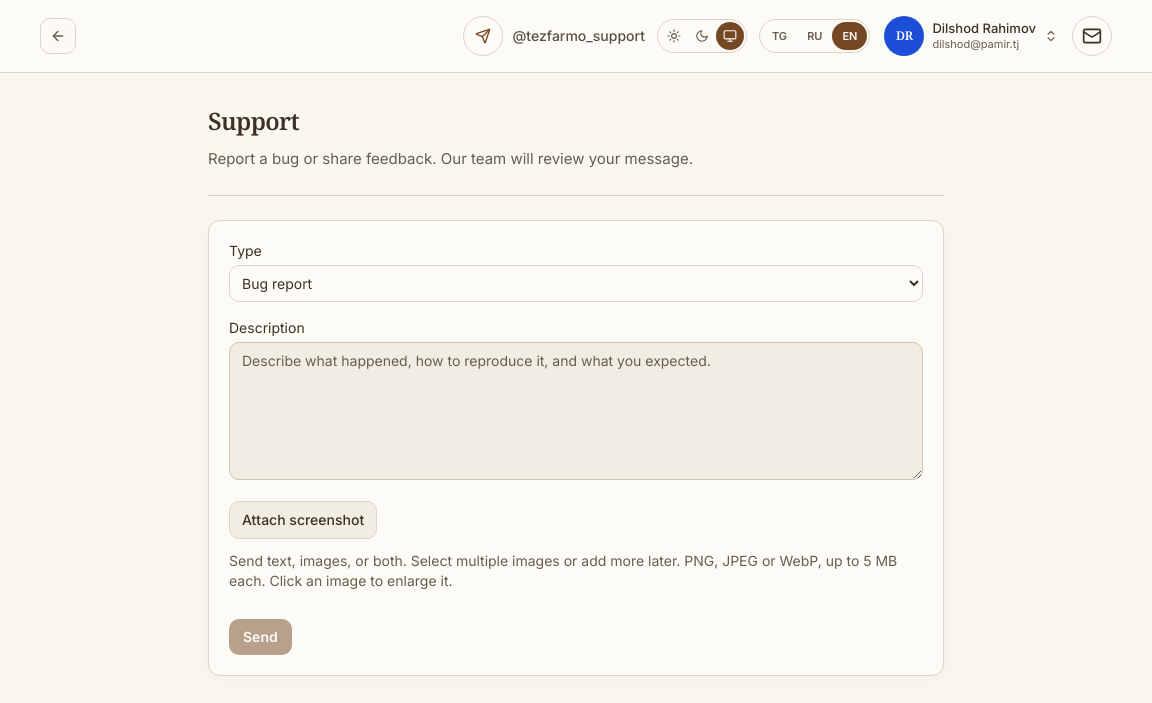
Test: support › sends a bug report and confirms receipt
The image size is (1152, 703).
In the text box labelled "Description": (576, 411) [229, 342, 923, 480], type "Help"
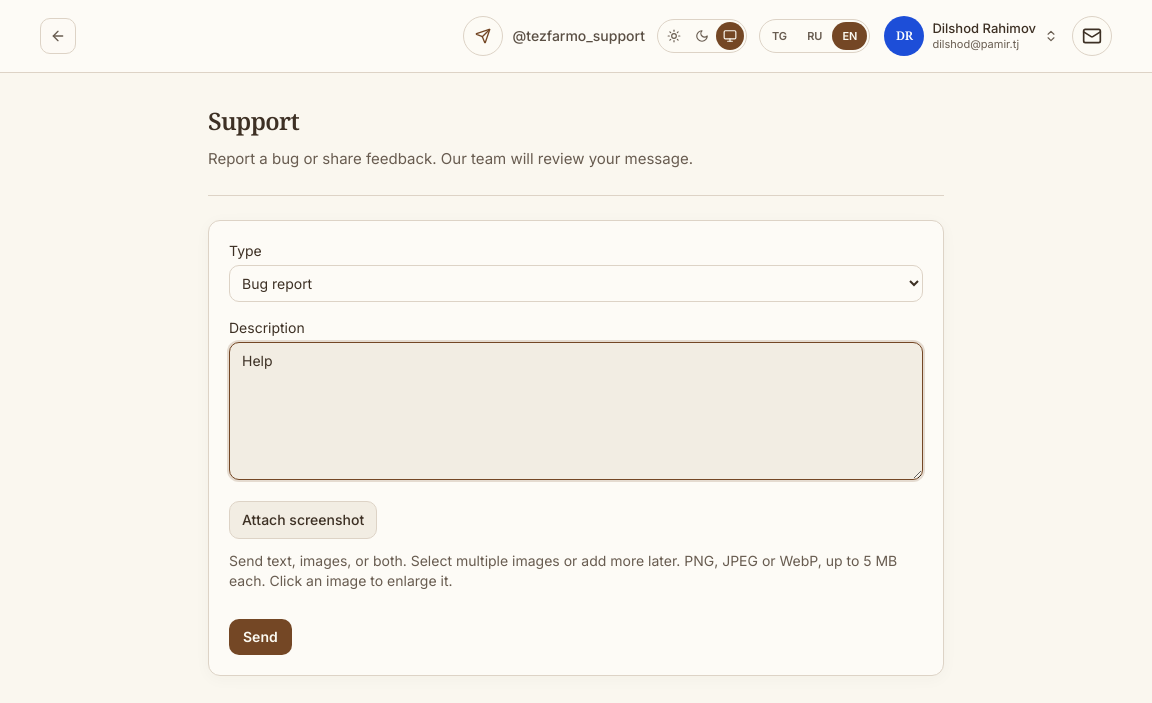
Click the button "Send": click(260, 637) [229, 619, 292, 655]
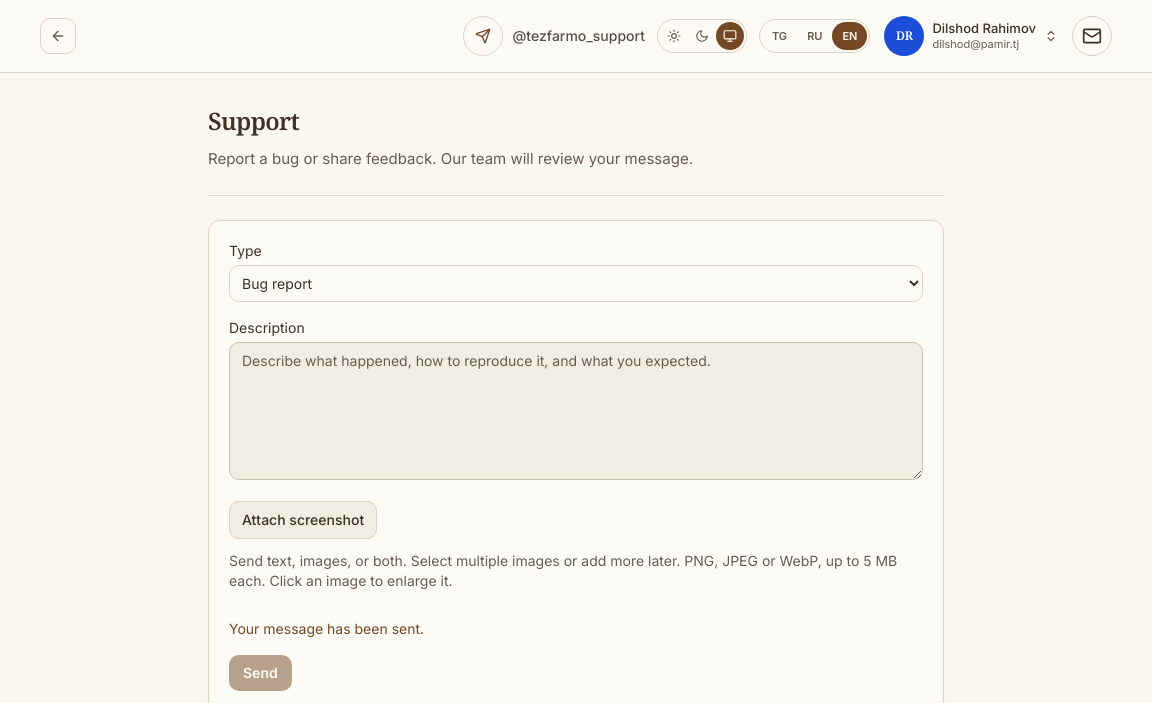
Result: the text "Your message has been sent." is shown at [229, 620, 424, 637]
